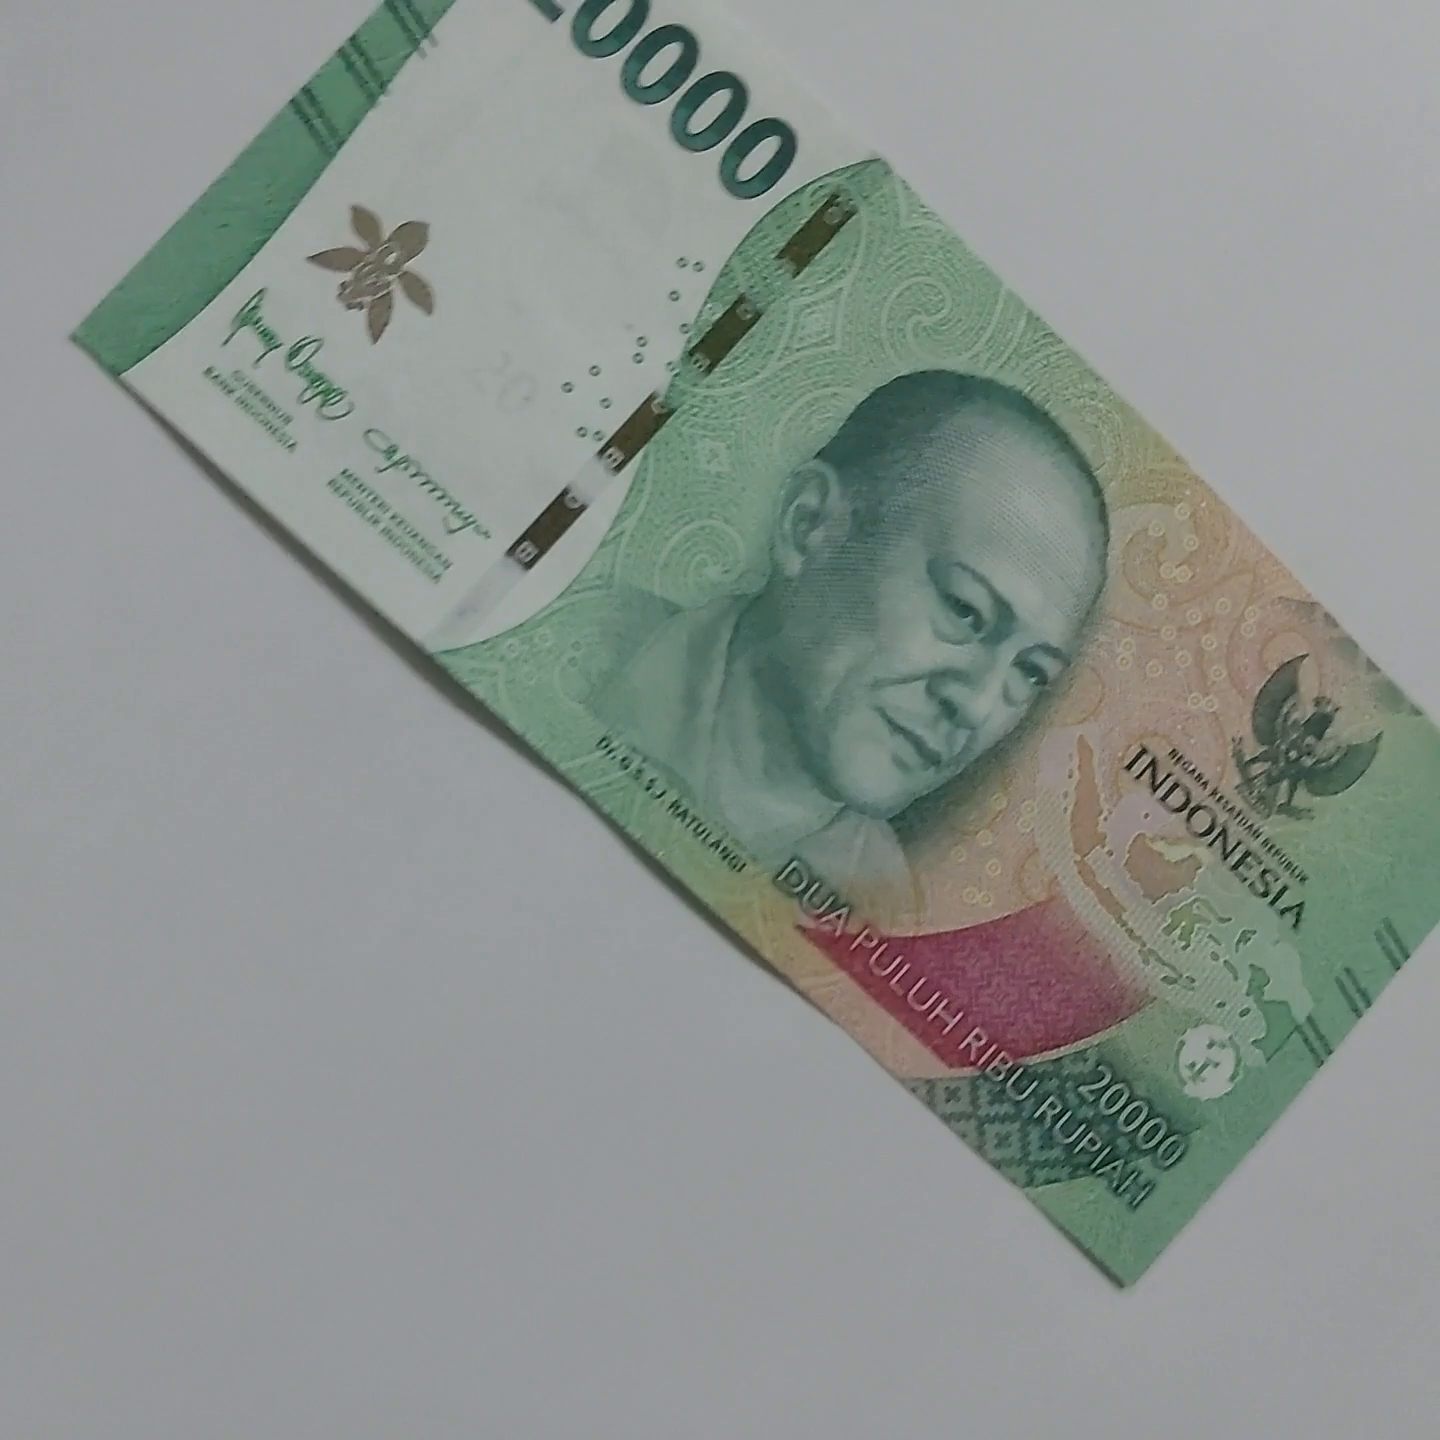20k: (0, 0, 1424, 1349)
